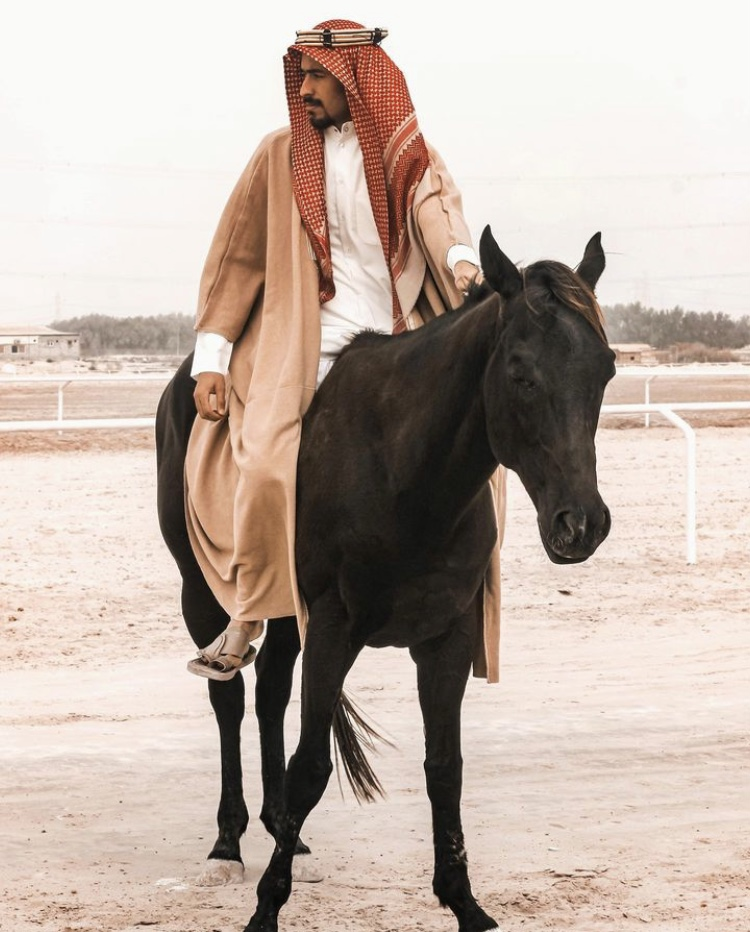Saudi_Founding_Day: (180, 14, 511, 685)
